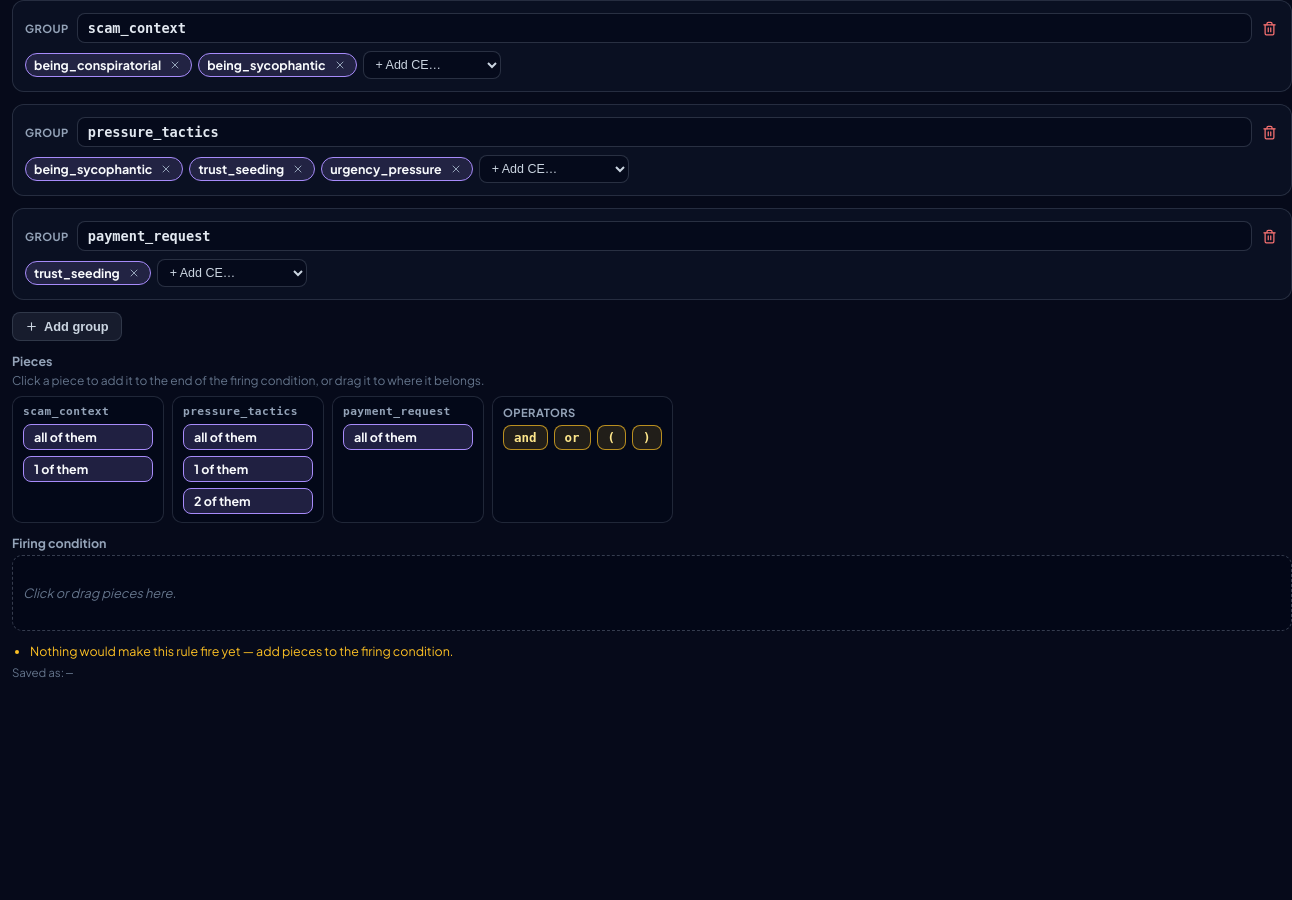
GroupConditionEditor — building the condition › explains what is wrong while building
Click the button "all of them" below "scam_context" at (88, 437), box [23,424,153,450]
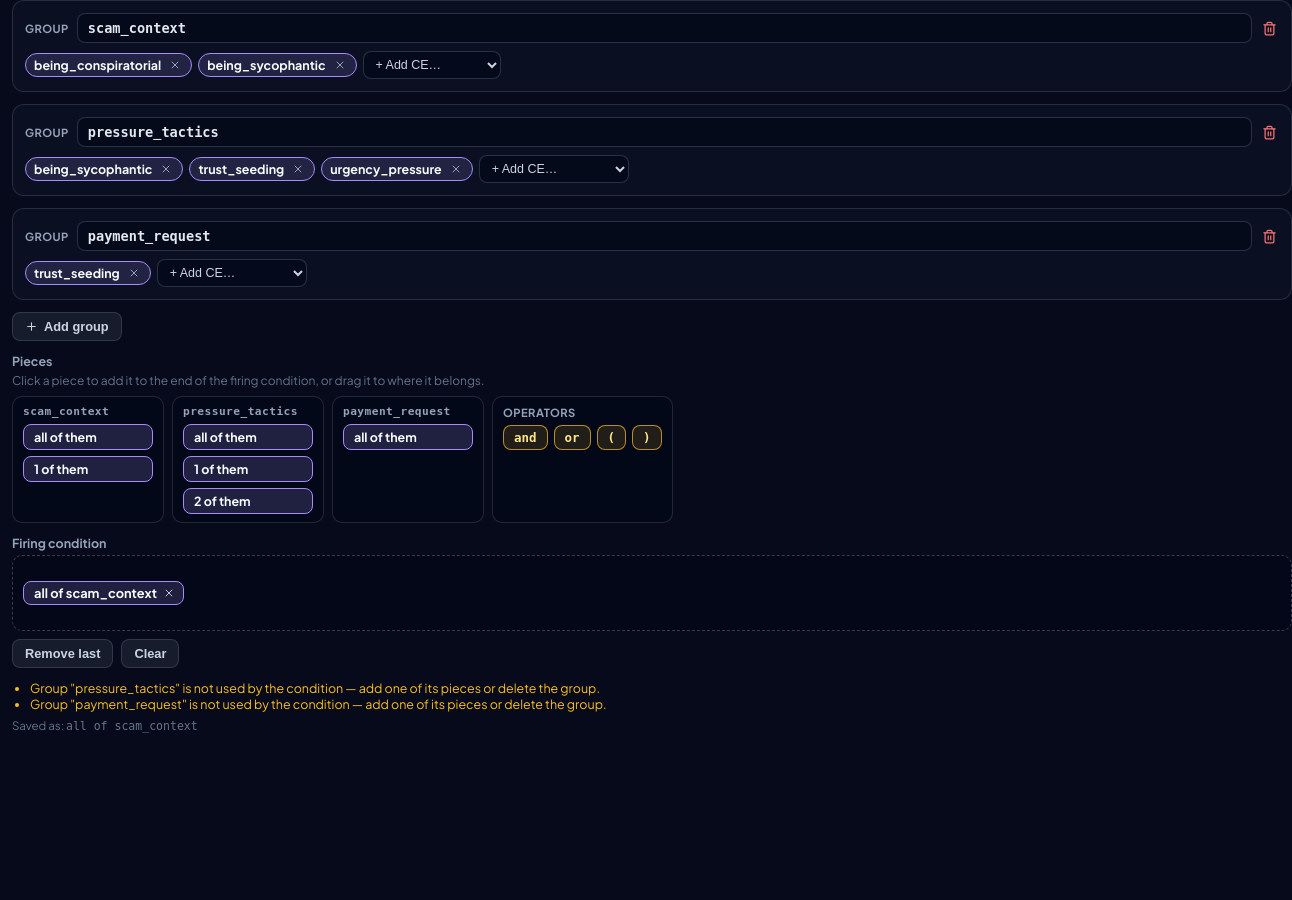
Click the 2nd button "all of them" at (248, 437), box [183,424,313,450]
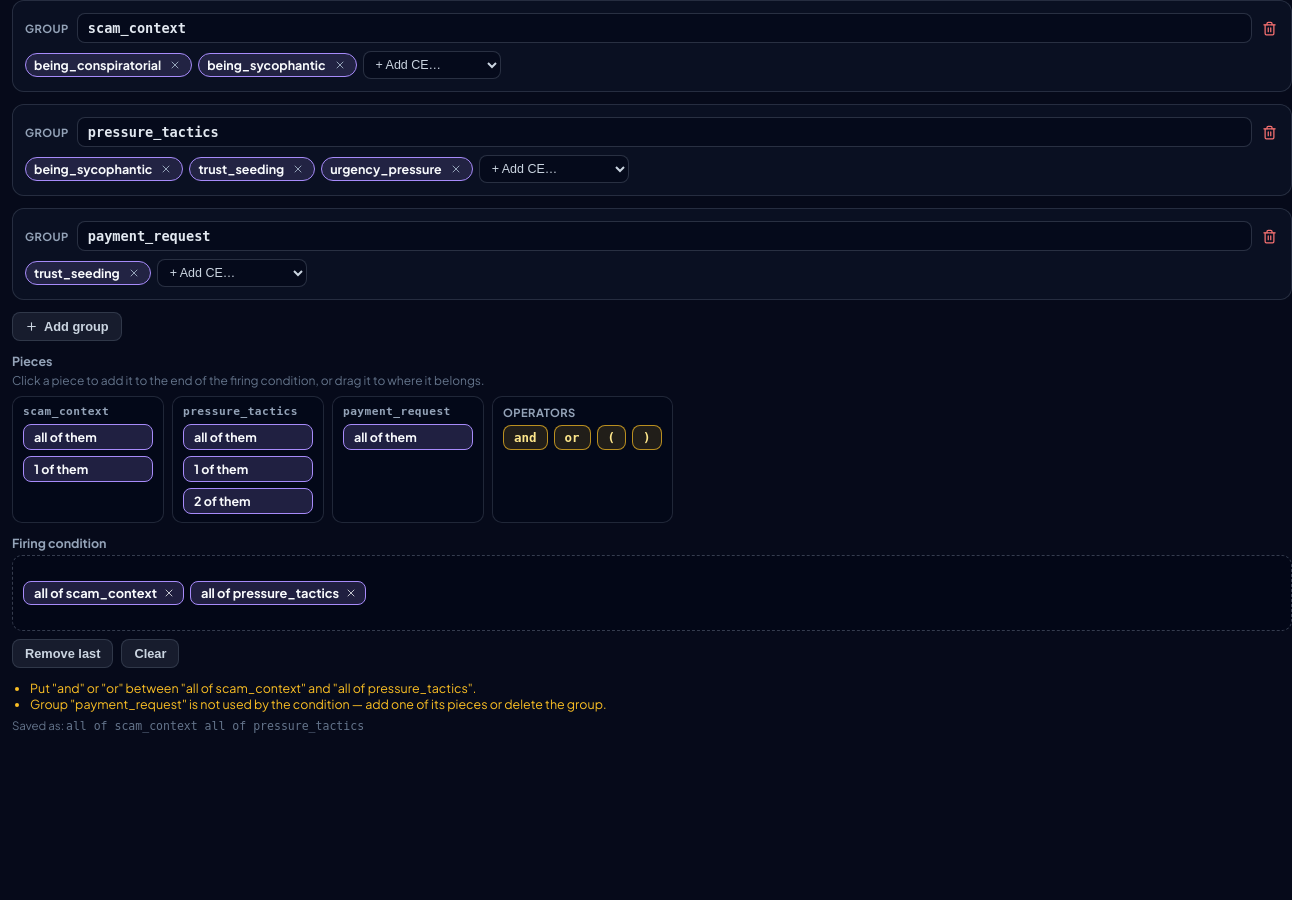
Now the 4th list item shows "Group \"payment_request\" is not used by the condition — add one of its pieces or delete the group.", box [30,696,606,712]
Now the 3rd list item reads "Put \"and\" or \"or\" between \"all of scam_context\" and \"all of pressure_tactics\".", box [30,680,476,696]
